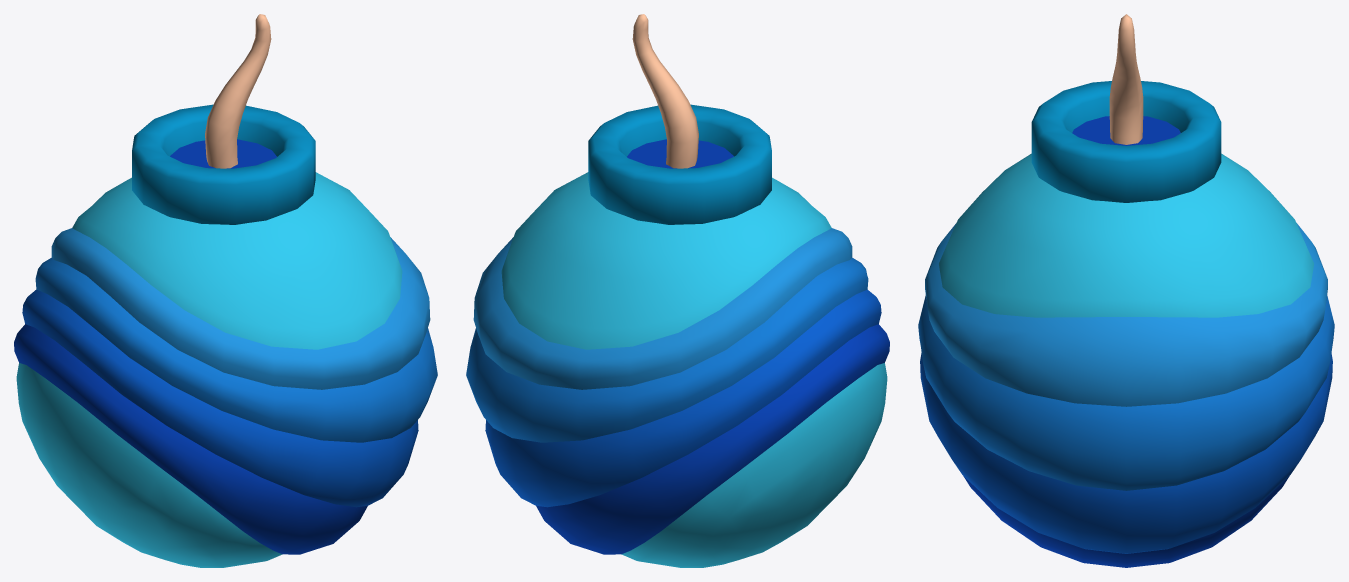
The model's file is ice_bomb_001.fbx.
The picture shows the model from 3 angles, left to right: view 1: azimuth 30°, elevation 25°; view 2: azimuth 150°, elevation 25°; view 3: azimuth 270°, elevation 25°; orthographic projection. The views are drawn at different scales.
Parts seen in each view (by area): view 1: ice_bomb_001; view 2: ice_bomb_001; view 3: ice_bomb_001.
Part boxes in pixels (box(x1,y1,x2,y2)): ice_bomb_001: box(14, 14, 437, 567); ice_bomb_001: box(466, 14, 889, 567); ice_bomb_001: box(918, 14, 1334, 567).
Size of the model in its own units: 449 by 427 by 609.
